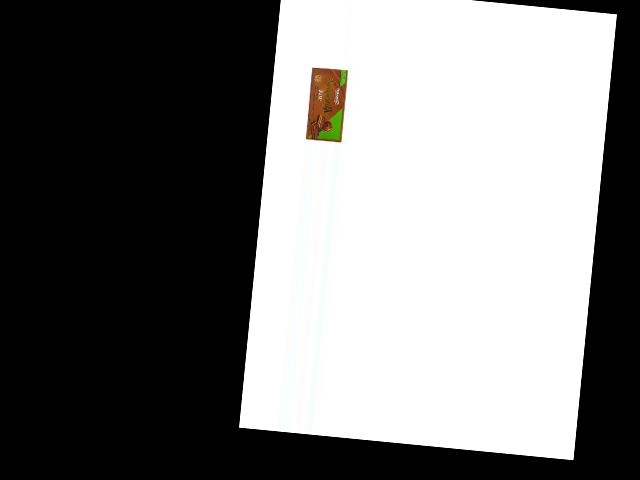chocolate: (301, 63, 349, 143)
